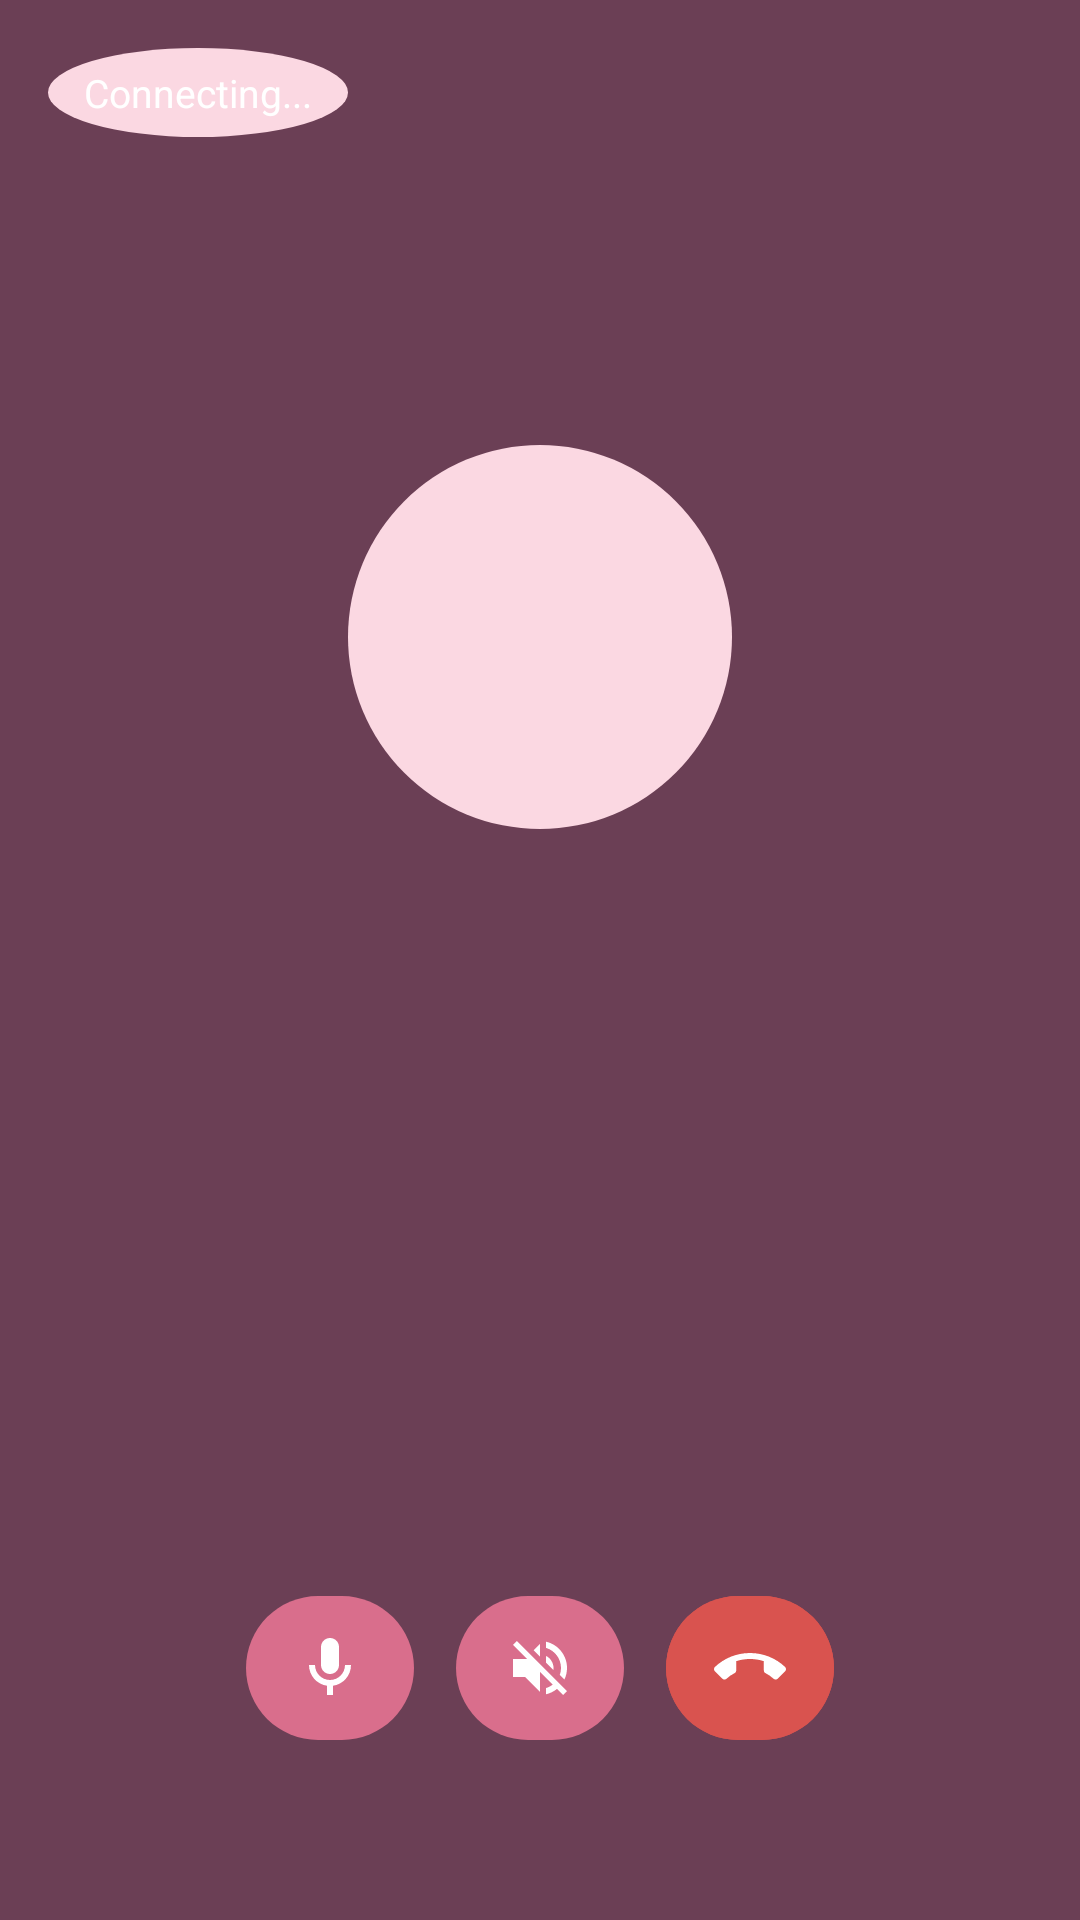

Where icons sit on this 1080px×1920px app screen, as [x1=x1, y1=y1, x2=x2, y2=y2]:
call end: [x1=666, y1=1596, x2=834, y2=1740]
mic: [x1=246, y1=1596, x2=414, y2=1740]
volume off: [x1=456, y1=1596, x2=624, y2=1740]
